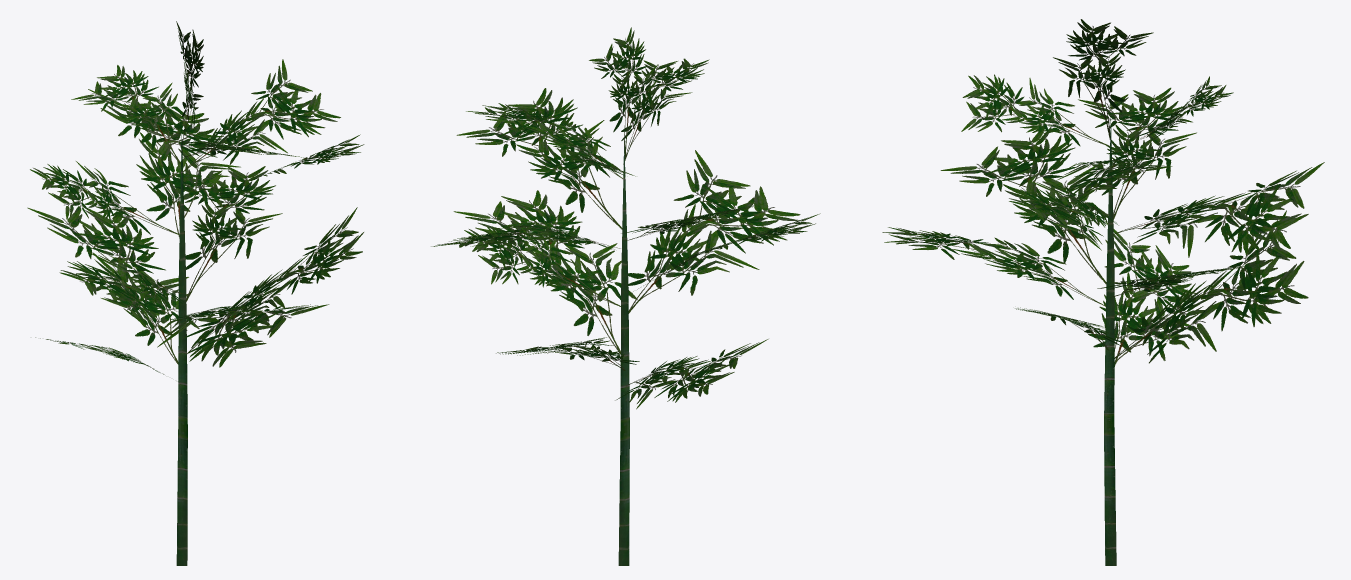
Rendered from bamboo.obj.
3 renders of one model, left to right at view 1: azimuth 30°, elevation 25°; view 2: azimuth 150°, elevation 25°; view 3: azimuth 270°, elevation 25°, orthographic. The views are drawn at different scales.
Parts seen in each view (by area): view 1: bamb1; view 2: bamb1; view 3: bamb1.
Boxes of the visible parts, left/top/right/bottom form: bamb1: left=27, top=21, right=364, bottom=565; bamb1: left=431, top=27, right=820, bottom=565; bamb1: left=882, top=19, right=1324, bottom=565.
Bounding box in the file's own units: 2.91 × 4.22 × 3.21.
1 material, 1 textured.
